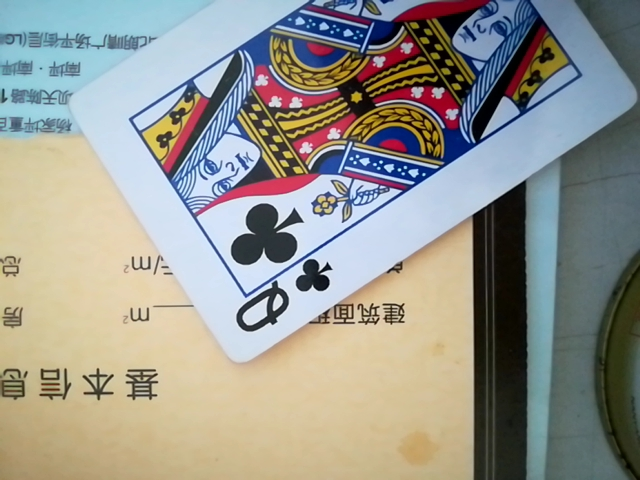mh q: (40, 2, 639, 367)
